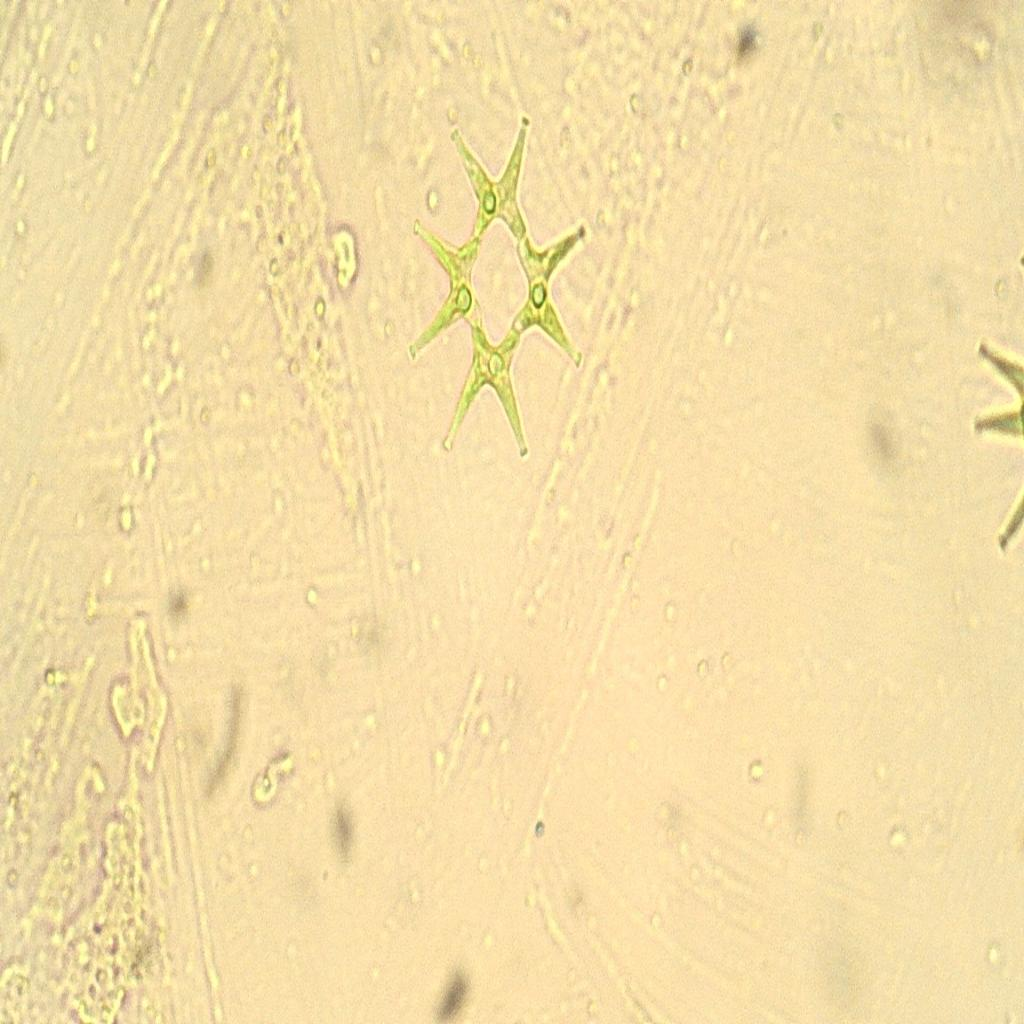Pediastrum_CO: (399, 79, 602, 482)
